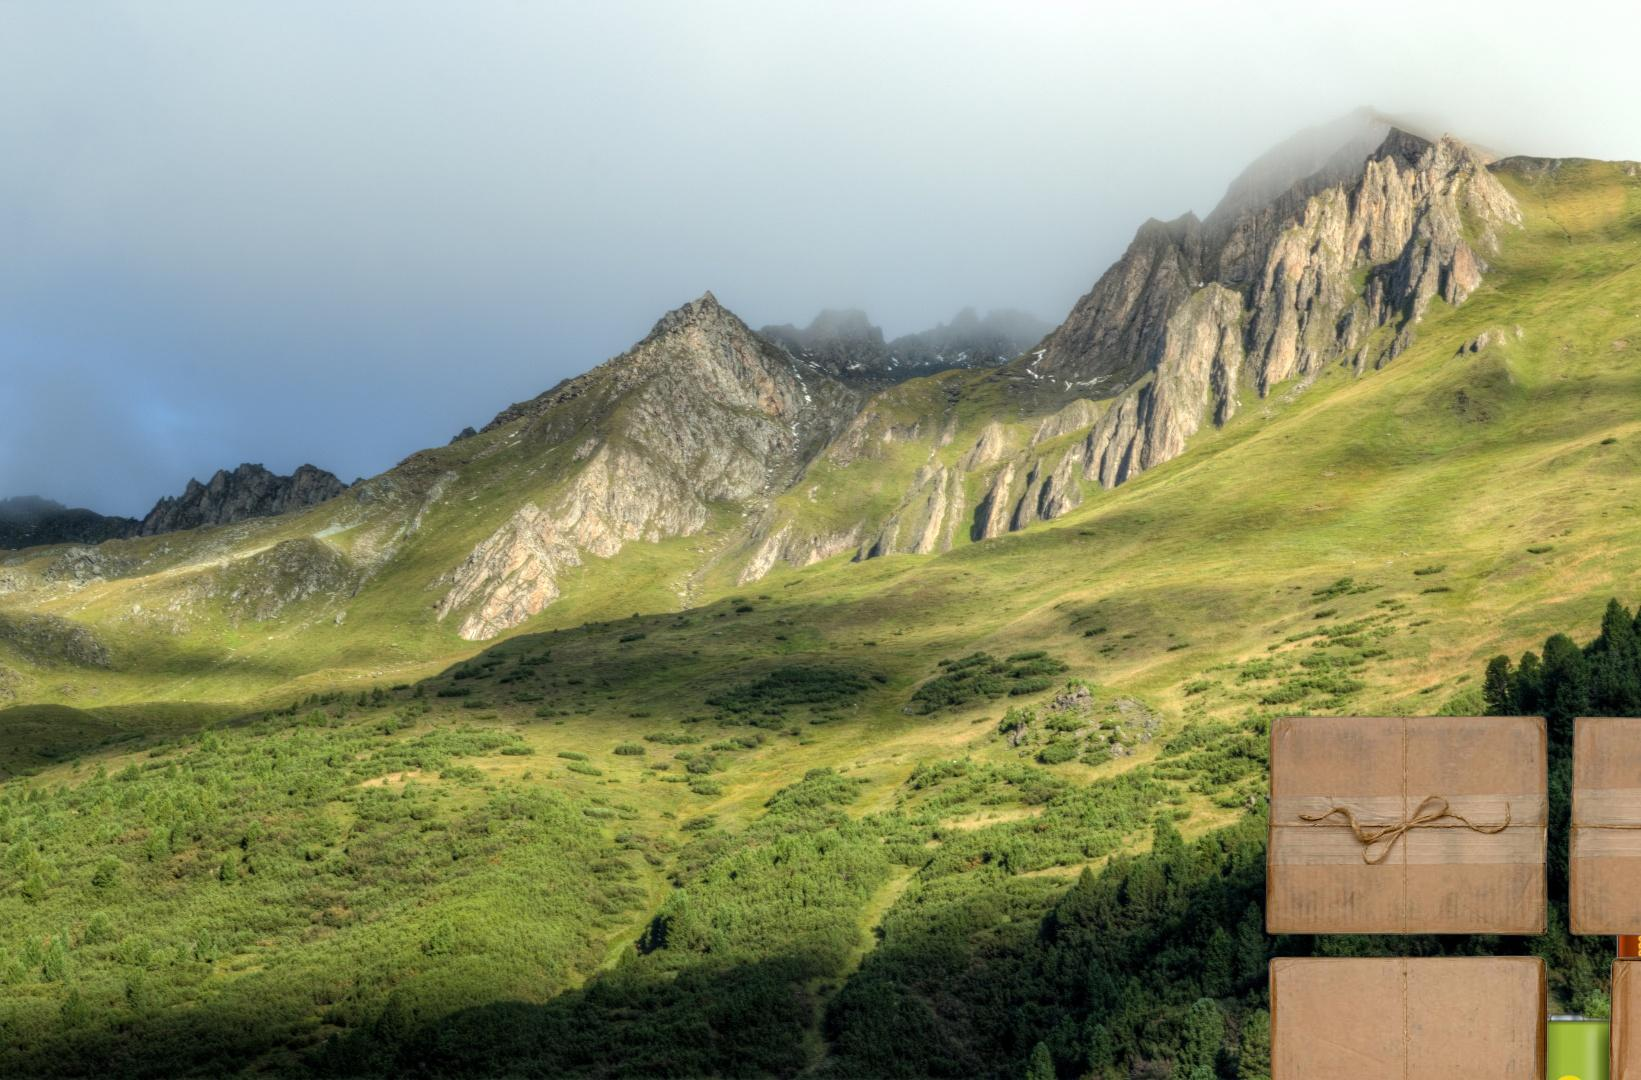battery: (1504, 664, 1641, 1080)
trashbox-cardboard: (1260, 712, 1641, 1080)
